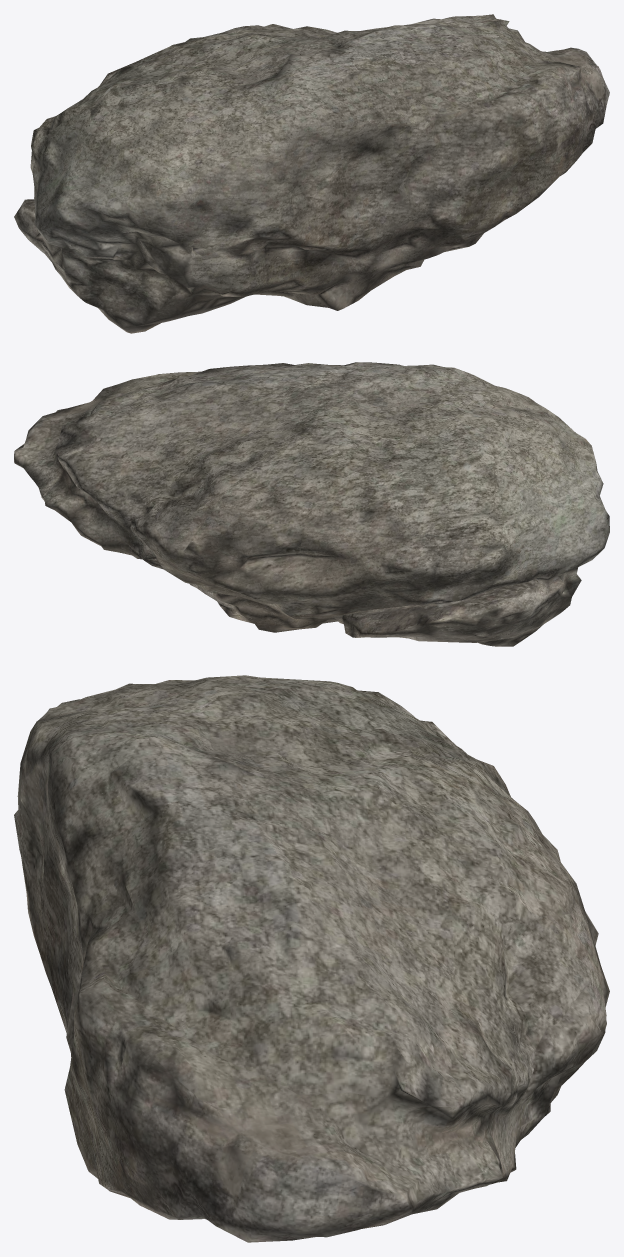
File: namaqualand_boulder_05.glb
The picture shows the model from 3 angles, top to bottom: view 1: azimuth 30°, elevation 25°; view 2: azimuth 150°, elevation 25°; view 3: azimuth 270°, elevation 25°; orthographic projection. The views are drawn at different scales.
Parts seen in each view (by area): view 1: namaqualand_boulder_05_LOD0; view 2: namaqualand_boulder_05_LOD0; view 3: namaqualand_boulder_05_LOD0.
Part boxes in pixels (bbox=[...]): namaqualand_boulder_05_LOD0: bbox=[14, 14, 609, 333]; namaqualand_boulder_05_LOD0: bbox=[14, 362, 609, 646]; namaqualand_boulder_05_LOD0: bbox=[14, 675, 609, 1242].
Size of what is drawn, in the model's own units: 1.35 by 0.5298 by 0.7462.
Materials: 1 (1 with a texture image).
